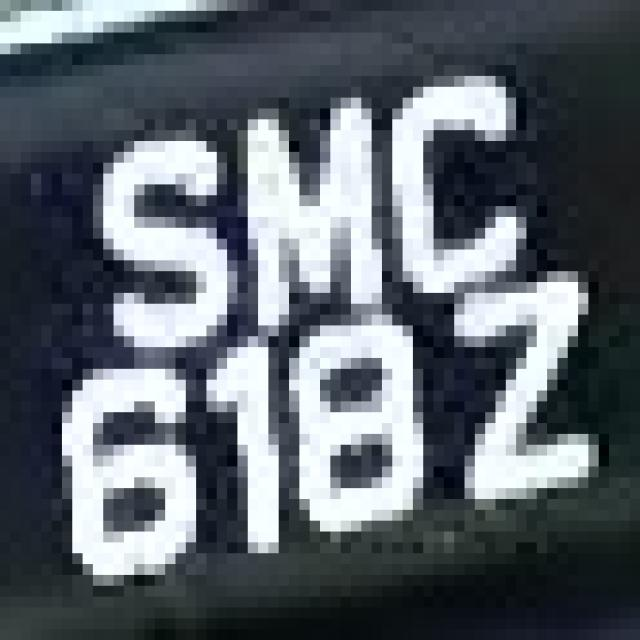1: (186, 314, 299, 586)
6: (20, 336, 216, 597)
8: (279, 314, 423, 542)
C: (362, 43, 558, 293)
M: (217, 87, 392, 304)
S: (82, 108, 248, 358)
Z: (413, 282, 609, 499)
